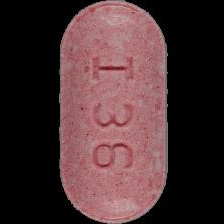66336-028: (0, 0, 224, 224)
